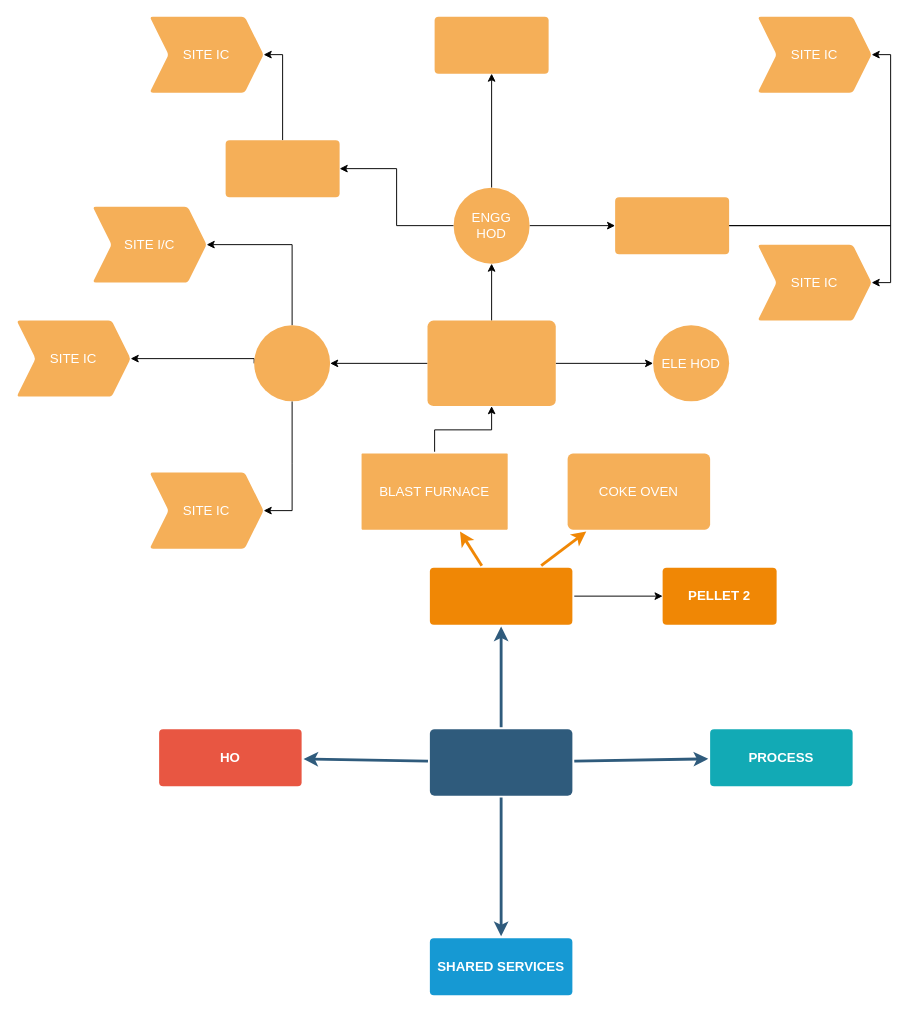
Image size: 915x1011. Some labels were removed from this diagram. The shapes that lost their labels are listed below. From the top down, each one's centre as x and y in pixels, then its label:
At point 491,44: "DRAWING HEAD".
At point 282,168: "PIPING HEAD".
At point 672,225: "STRUCUTRAL HEAD".
At point 292,363: "CIVIL HOD".
At point 491,363: "HOD (AVERAGE ODIF OF HIS WORKS AND DIRECT REPORTS".
At point 500,595: "PROJECTS".
At point 500,762: "PMO".
